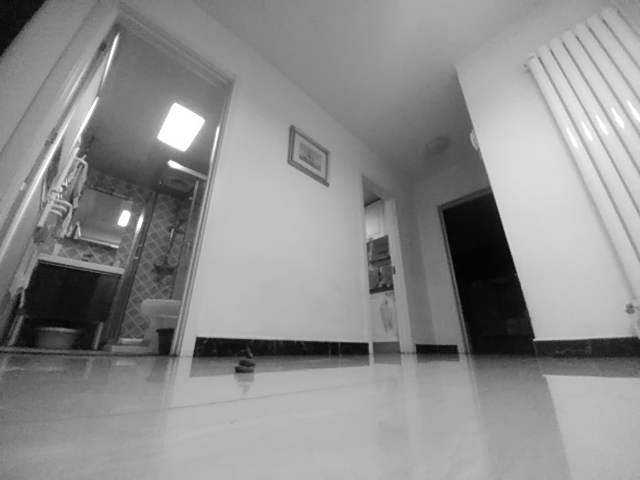pet feces: (234, 345, 257, 375)
